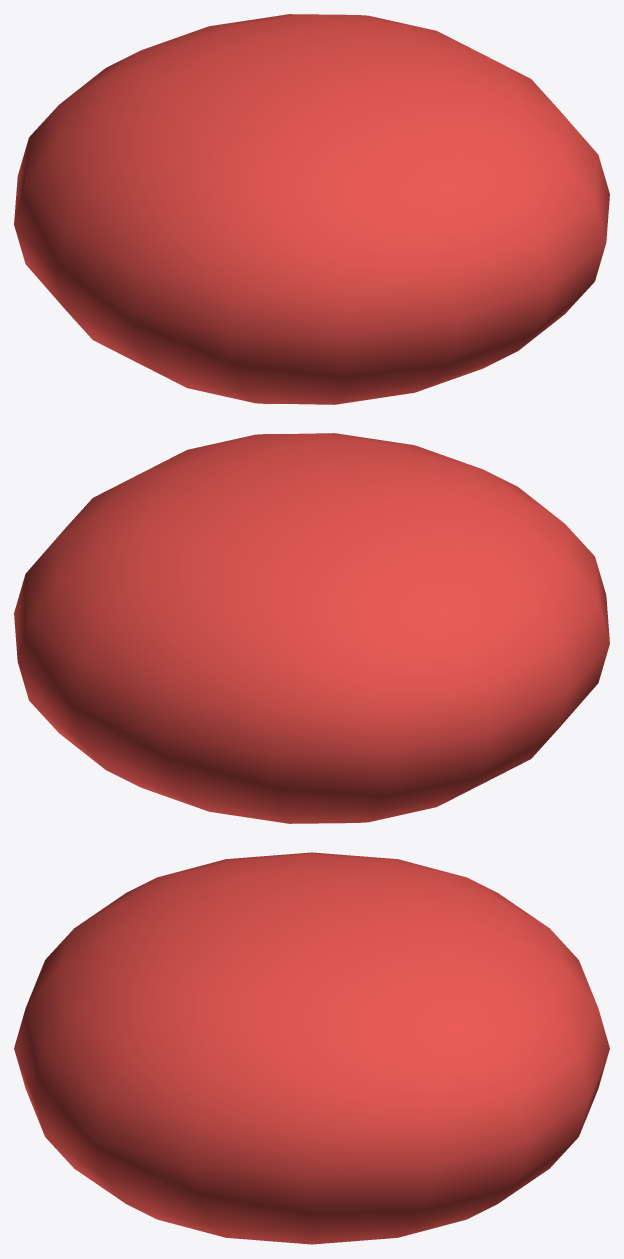
Rendered from Candu.fbx.
3 views of the same model, one above another, from view 1: azimuth 30°, elevation 25°; view 2: azimuth 150°, elevation 25°; view 3: azimuth 270°, elevation 25° (orthographic).
Visible parts, largest first — view 1: Cube; view 2: Cube; view 3: Cube.
Part boxes in pixels (x1,y1,x2,y2): Cube: (14,14,609,404); Cube: (14,433,609,823); Cube: (14,852,609,1244).
Bounding box in the file's own units: 68 × 37.88 × 68.
